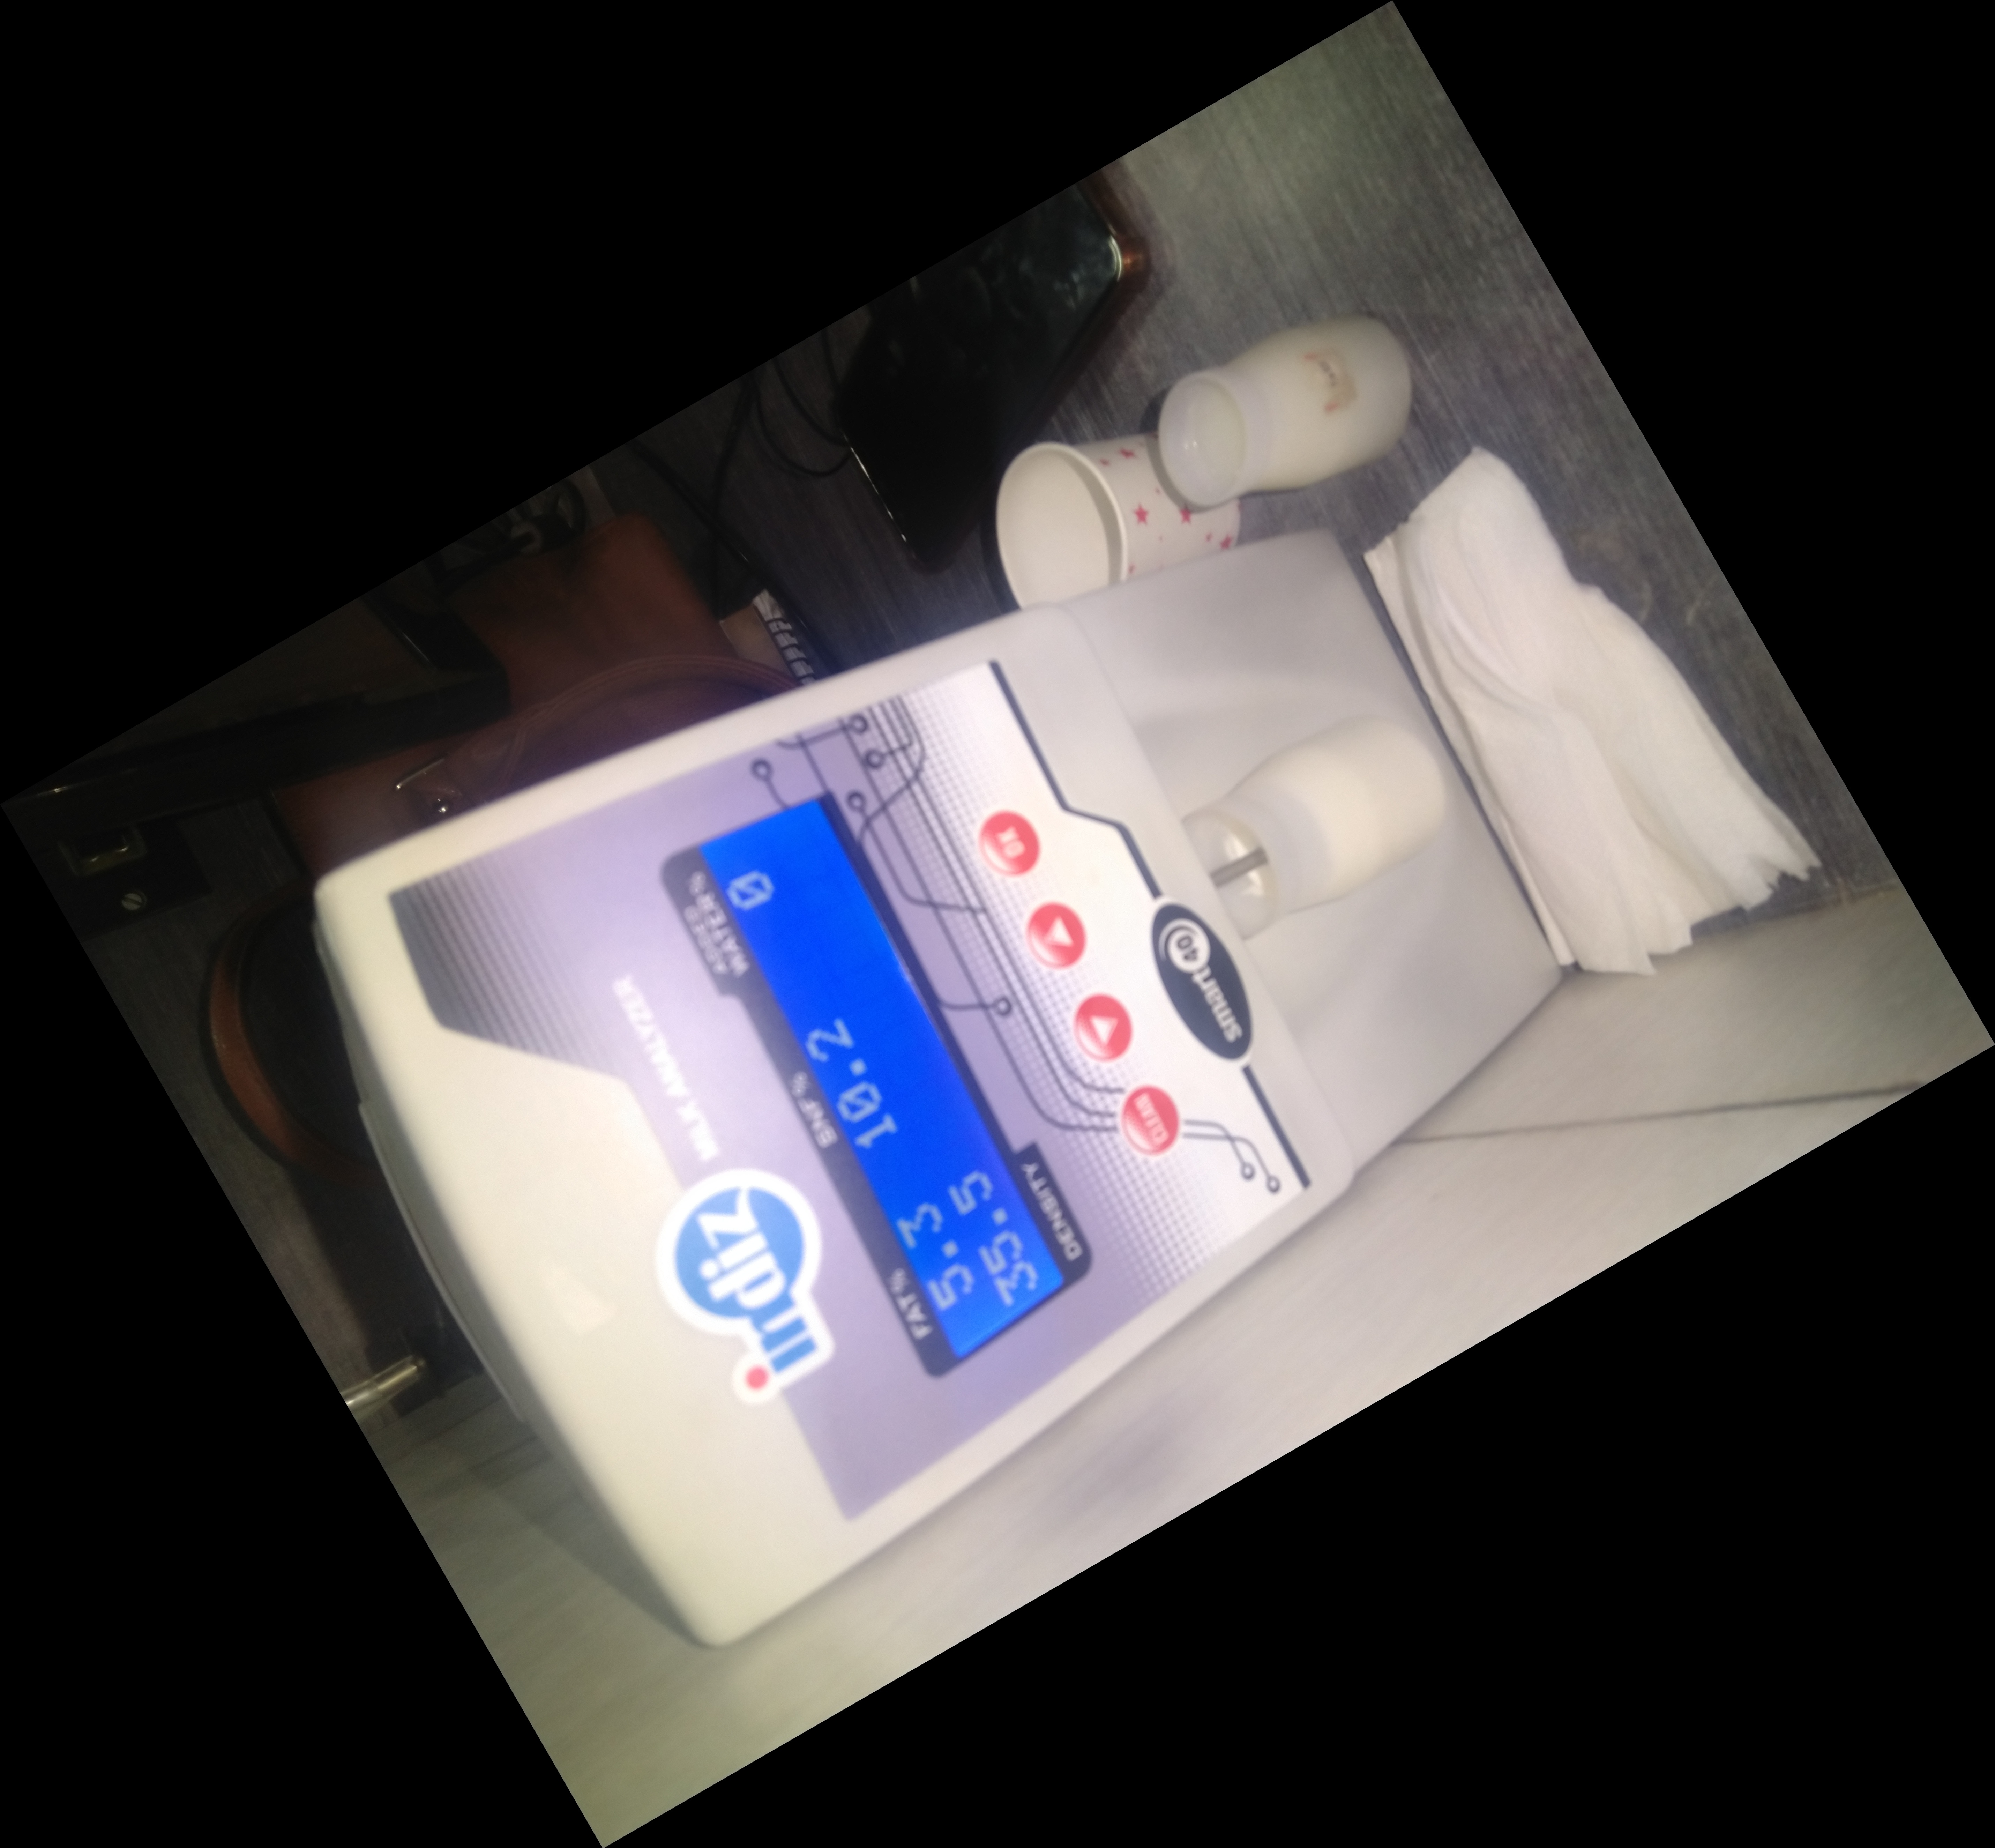lcd: (664, 781, 1107, 1380)
